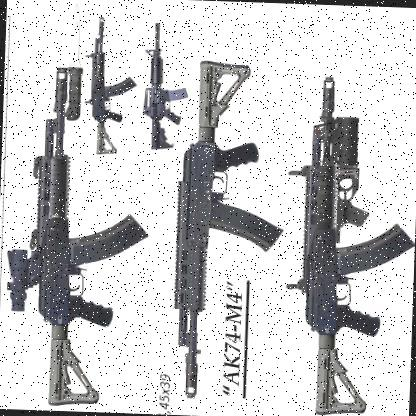rifle: (3, 61, 145, 414), (163, 55, 302, 407), (294, 73, 415, 416), (78, 16, 147, 160), (135, 19, 202, 154)
